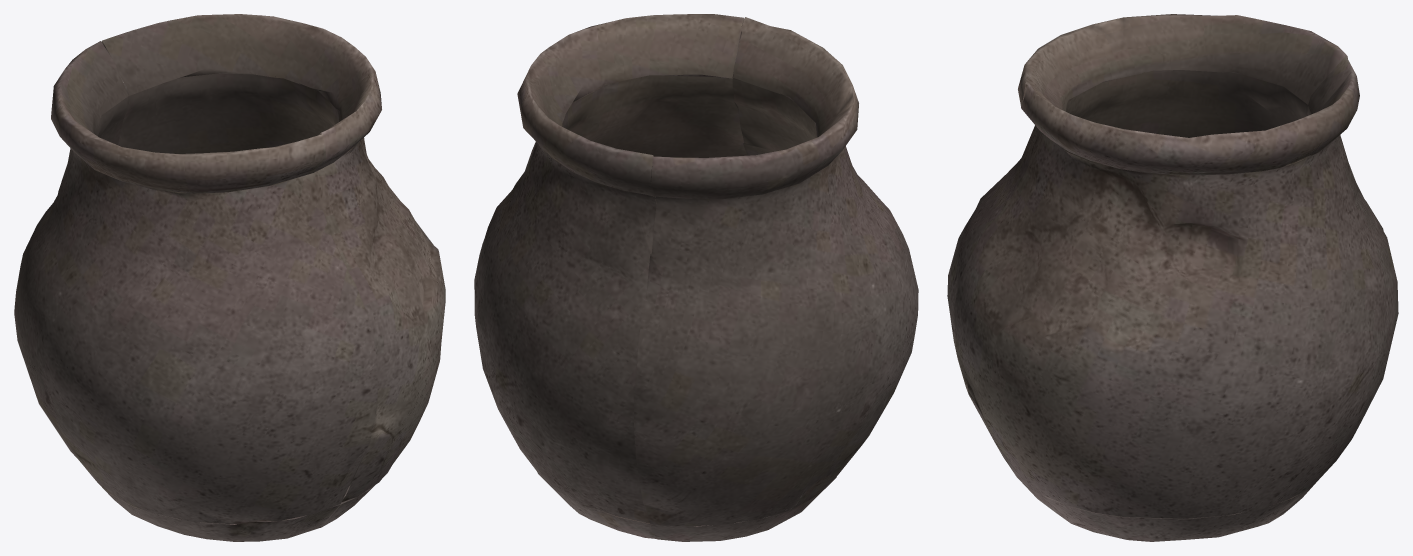
File: jar.glb
3 views of the same model, side by side, from view 1: azimuth 30°, elevation 25°; view 2: azimuth 150°, elevation 25°; view 3: azimuth 270°, elevation 25° (orthographic). The views are drawn at different scales.
Visible parts, largest first — view 1: IAUJ_wst1_l_naczynie___07 - Default_0; view 2: IAUJ_wst1_l_naczynie___07 - Default_0; view 3: IAUJ_wst1_l_naczynie___07 - Default_0.
Boxes of the visible parts, x1,y1,x2,y2 form: IAUJ_wst1_l_naczynie___07 - Default_0: [14, 14, 445, 541]; IAUJ_wst1_l_naczynie___07 - Default_0: [474, 14, 918, 541]; IAUJ_wst1_l_naczynie___07 - Default_0: [947, 14, 1398, 541].
Bounding box in the file's own units: 1.12 × 1.2 × 1.14.
1 material, 1 textured.
